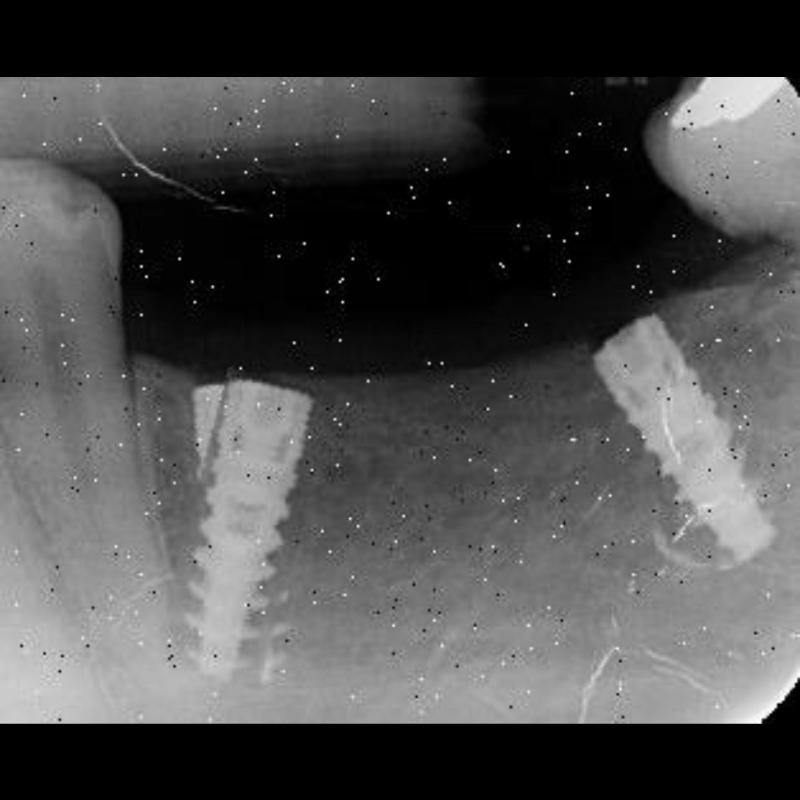ADIN: (594, 290, 780, 574), (169, 372, 317, 686)
